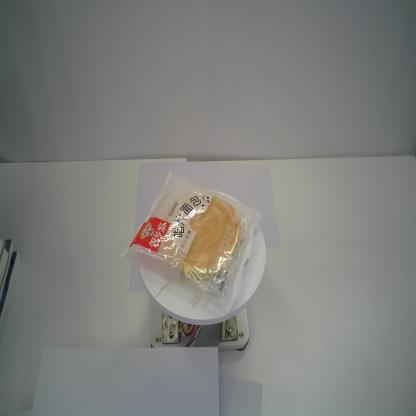Dessert: (118, 170, 263, 316)
